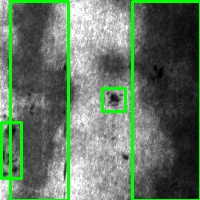inclusion: (1, 122, 21, 178), (102, 88, 125, 111)
patches: (132, 1, 200, 200), (11, 1, 68, 200)
